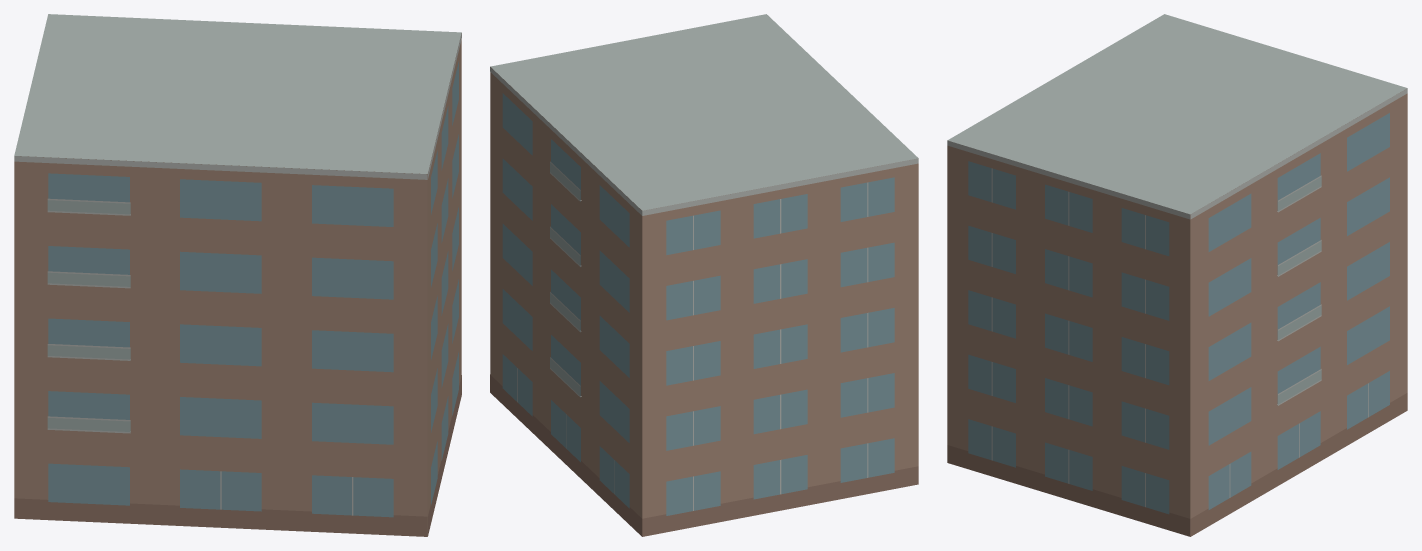
Rendered from survey-upis-32539937.glb.
3 renders of one model, left to right at view 1: azimuth 30°, elevation 25°; view 2: azimuth 150°, elevation 25°; view 3: azimuth 270°, elevation 25°, orthographic. The views are drawn at different scales.
Visible parts, largest first — view 1: survey-upis-32539937.tmp; view 2: survey-upis-32539937.tmp; view 3: survey-upis-32539937.tmp.
Boxes of the visible parts, box(x1,y1,x2,y2) form: survey-upis-32539937.tmp: box(14, 14, 461, 536); survey-upis-32539937.tmp: box(490, 14, 918, 536); survey-upis-32539937.tmp: box(947, 14, 1407, 536).
Bounding box in the file's own units: 20.34 × 15.25 × 19.74.
